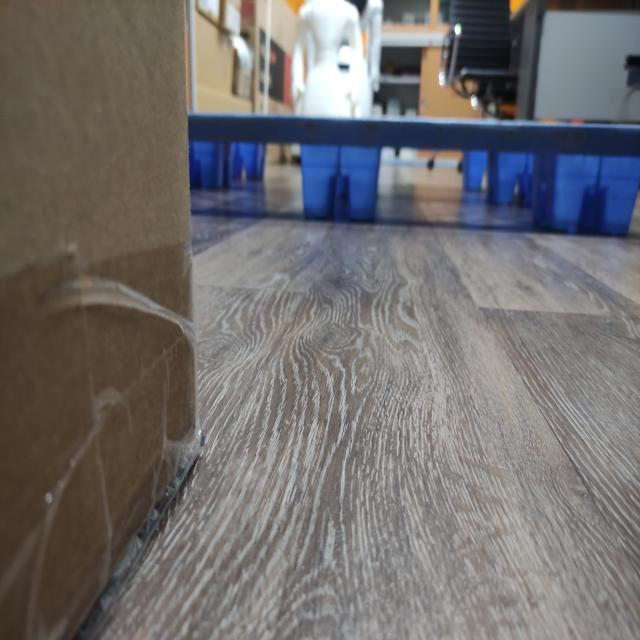block: (301, 141, 382, 221), (555, 163, 638, 238)
front: (179, 119, 640, 224)
